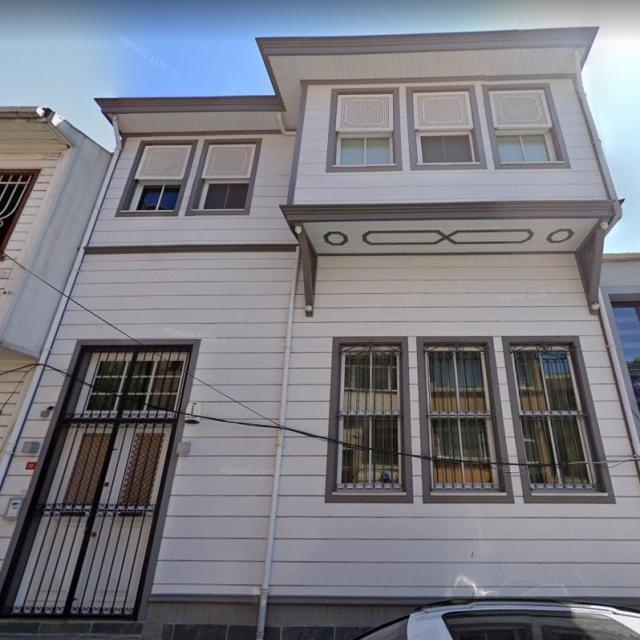Building: (0, 26, 640, 640)
